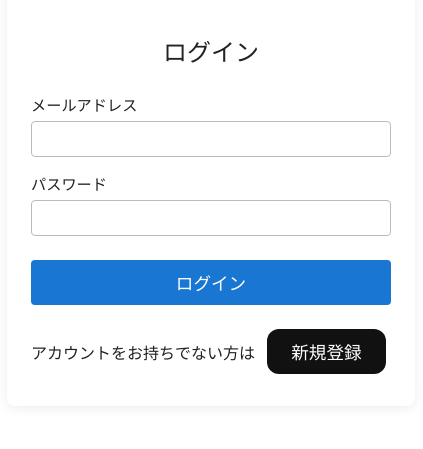
Test case: LoginRegister › 通信エラー時にエラーメッセージが表示される
Type "fail@example.com" into the field labelled "メールアドレス" at (211, 139), box [31,121,391,157]
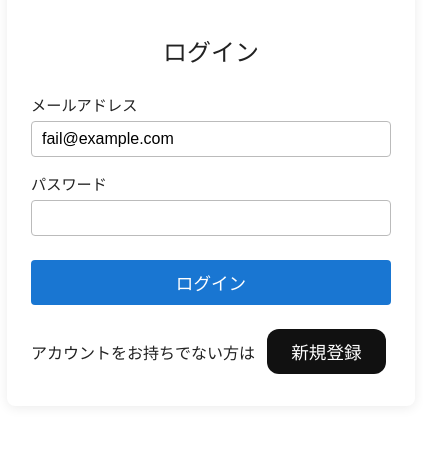
Type "wrongpass" into the password field labelled "パスワード" at (211, 218), box [31,200,391,236]
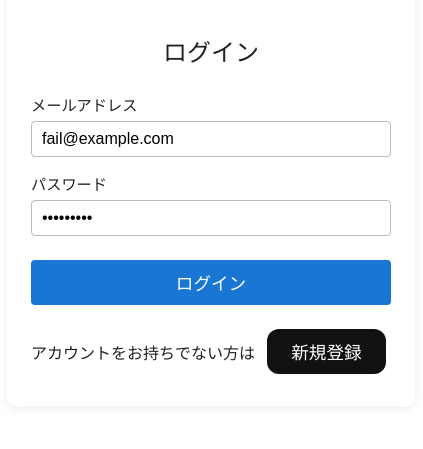
Click the button "ログイン" at (211, 282), box [31,260,391,305]
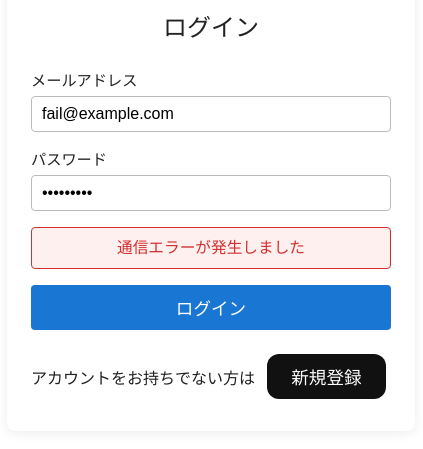
Expected: the text "通信エラーが発生しました" is shown, [31,227,391,268]
